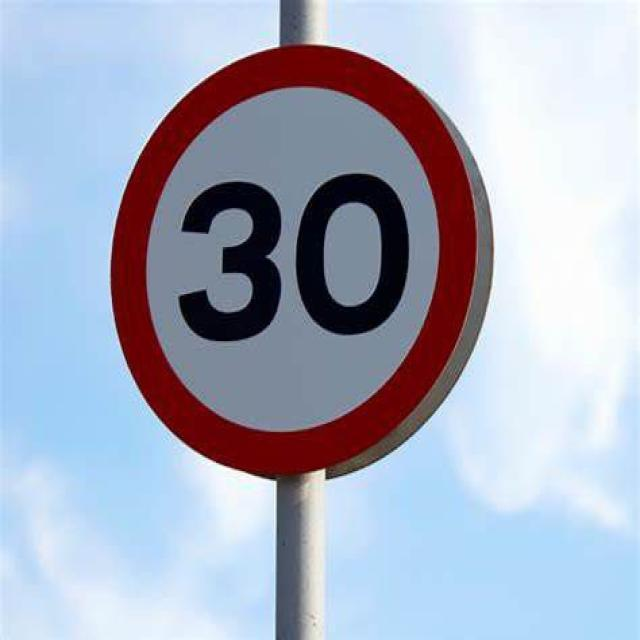speed limit 30: (104, 37, 504, 493)
